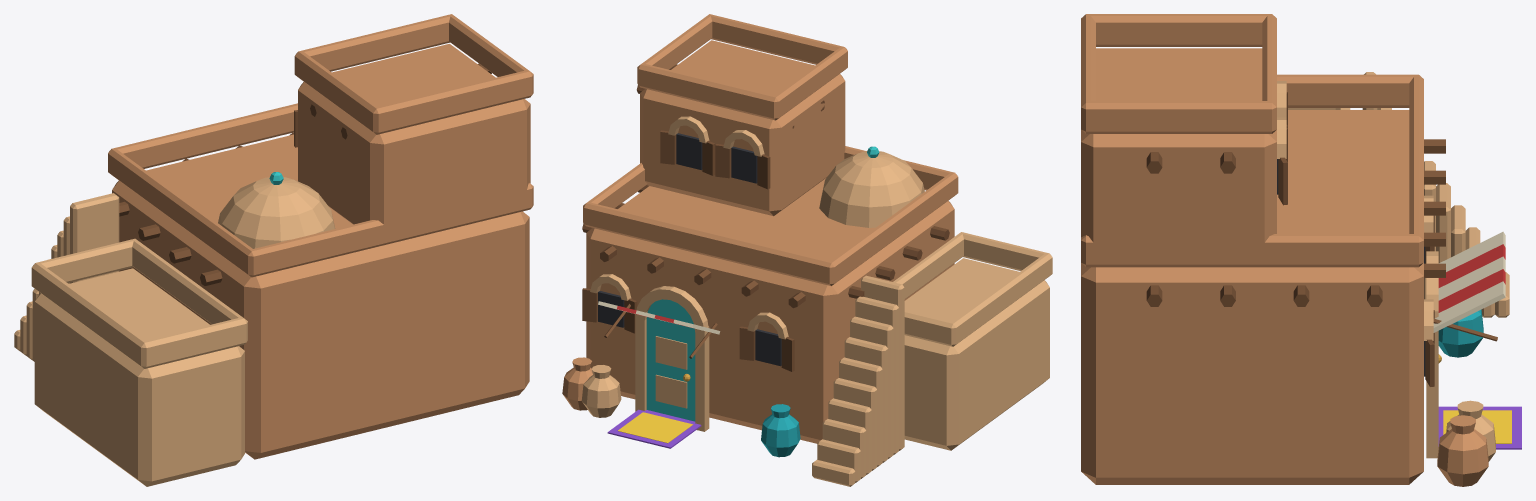
Rendered from MudBrickHouse.fbx.
3 views of the same model, side by side, from view 1: azimuth 30°, elevation 25°; view 2: azimuth 150°, elevation 25°; view 3: azimuth 270°, elevation 25° (orthographic). The views are drawn at different scales.
Visible parts, largest first — view 1: MudBrickHouse_Adobe, MudBrickHouse_AdobeLight, MudBrickHouse_WoodDark; view 2: MudBrickHouse_Adobe, MudBrickHouse_AdobeLight, MudBrickHouse_WoodDark, MudBrickHouse_Turquoise, MudBrickHouse_Charcoal, MudBrickHouse_Teal, MudBrickHouse_Yellow, MudBrickHouse_Purple; view 3: MudBrickHouse_Adobe, MudBrickHouse_AdobeLight, MudBrickHouse_WoodDark, MudBrickHouse_Cream, MudBrickHouse_Red, MudBrickHouse_Teal, MudBrickHouse_Purple, MudBrickHouse_Yellow.
Part boxes in pixels (box(x1,y1,x2,y2)): MudBrickHouse_Adobe: box(108, 14, 533, 459); MudBrickHouse_AdobeLight: box(14, 177, 335, 486); MudBrickHouse_WoodDark: box(119, 63, 491, 285); MudBrickHouse_Adobe: box(562, 14, 958, 443); MudBrickHouse_AdobeLight: box(581, 116, 1052, 486); MudBrickHouse_WoodDark: box(582, 64, 949, 371); MudBrickHouse_Turquoise: box(646, 146, 879, 421); MudBrickHouse_Charcoal: box(598, 133, 781, 366); MudBrickHouse_Teal: box(761, 404, 800, 457); MudBrickHouse_Yellow: box(618, 412, 693, 443); MudBrickHouse_Purple: box(607, 409, 701, 448); MudBrickHouse_Adobe: box(1081, 14, 1488, 486); MudBrickHouse_AdobeLight: box(1277, 72, 1509, 461); MudBrickHouse_WoodDark: box(1146, 92, 1497, 386); MudBrickHouse_Cream: box(1433, 231, 1505, 332); MudBrickHouse_Red: box(1438, 244, 1505, 312); MudBrickHouse_Teal: box(1438, 309, 1483, 357); MudBrickHouse_Purple: box(1438, 406, 1521, 449); MudBrickHouse_Yellow: box(1443, 410, 1511, 443).
Size of the model in its own units: 22.9 by 17.7 by 18.
